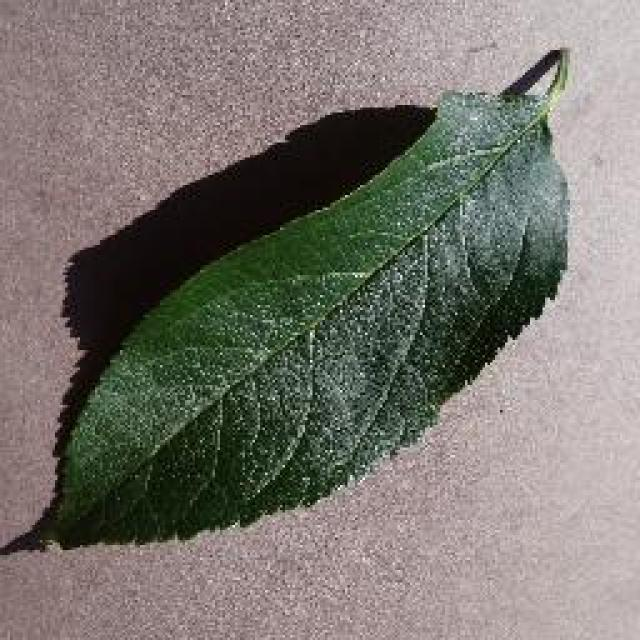apple scab disease: (17, 43, 575, 555)
